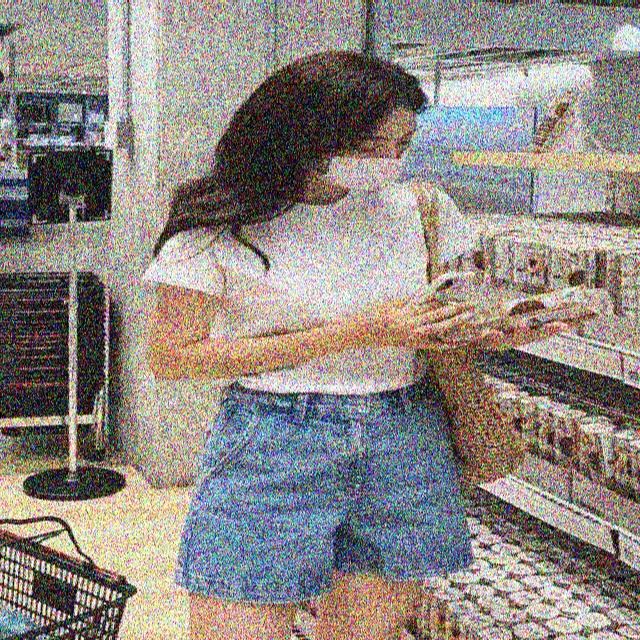Shorts: (173, 384, 475, 640)
